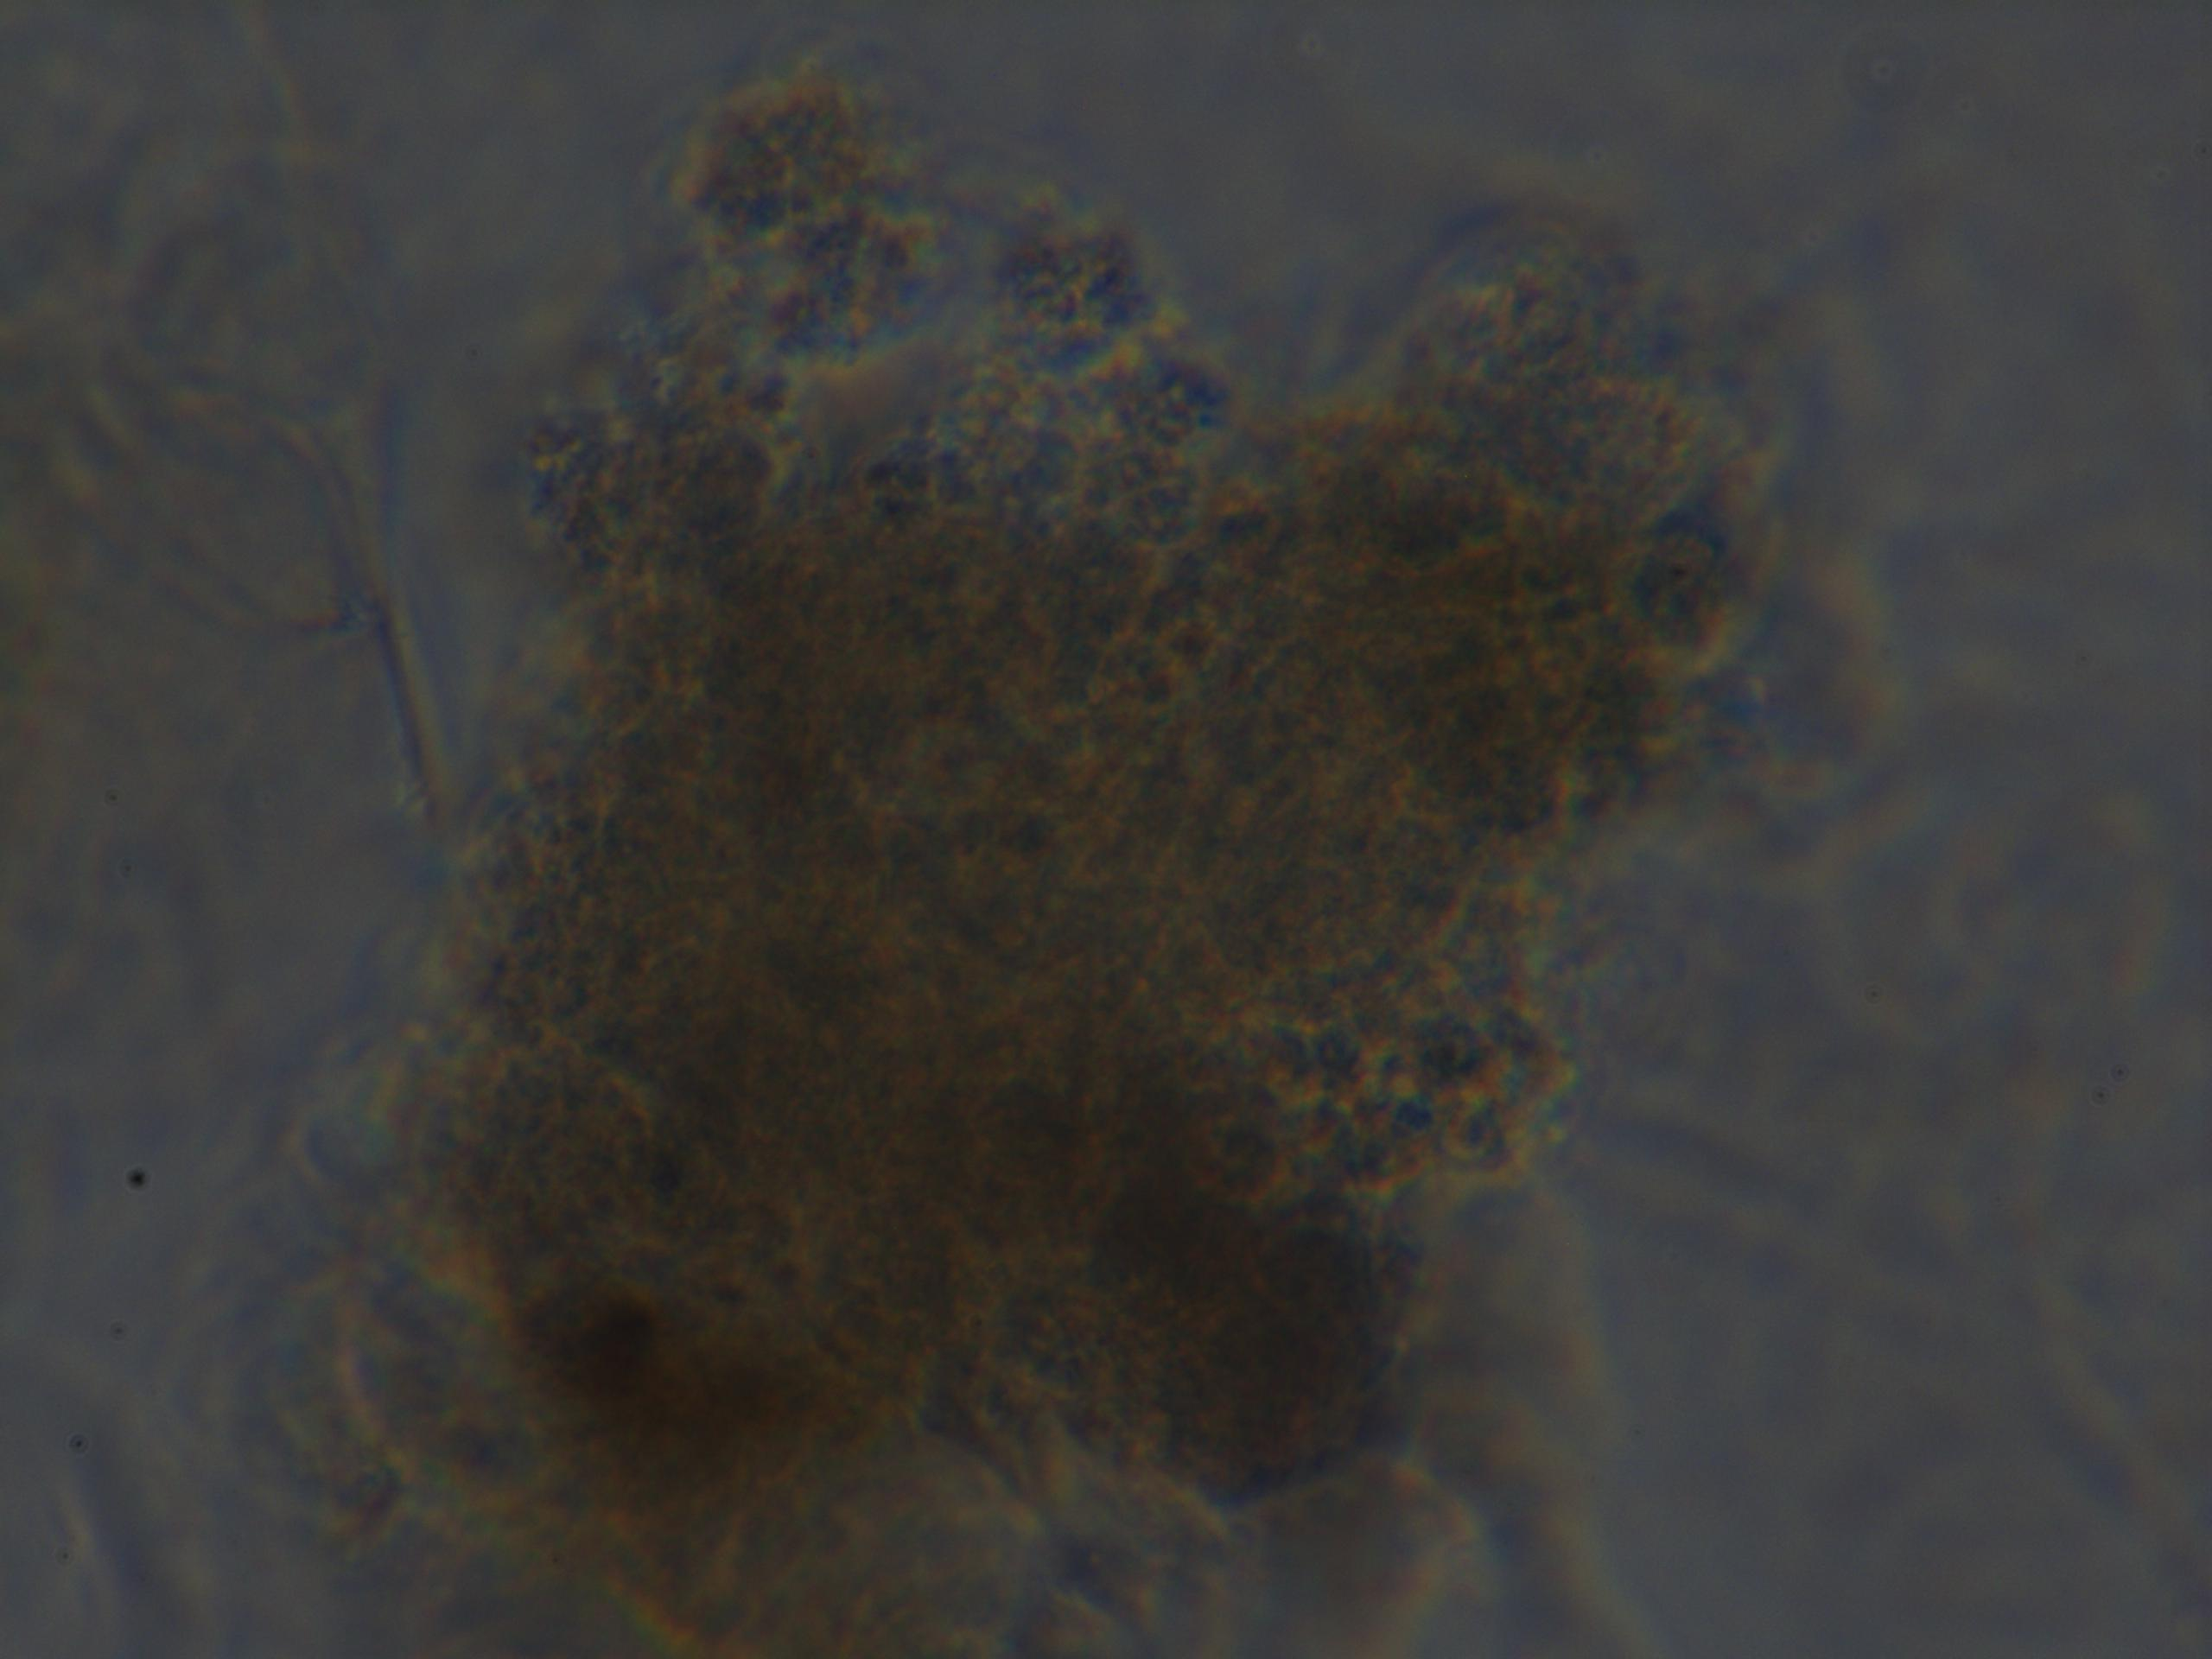spherical_floc: (399, 310, 1712, 1601)
